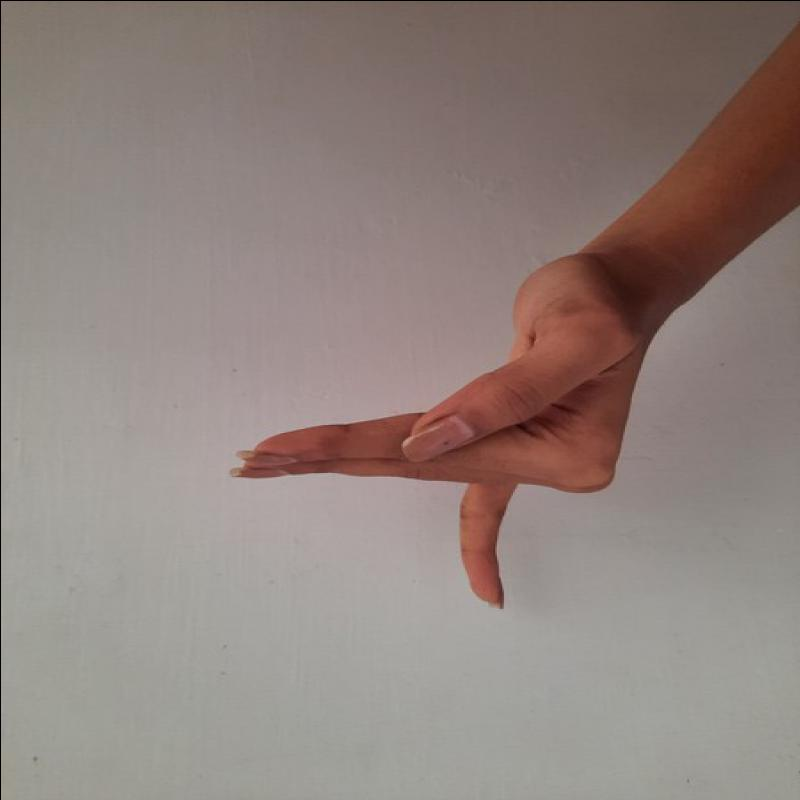Kartharee Mukham: (214, 243, 657, 617)
